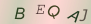A: (67, 10, 80, 23)
B: (14, 6, 26, 20)
E: (36, 4, 46, 15)
J: (78, 8, 89, 22)
Q: (46, 4, 61, 19)
